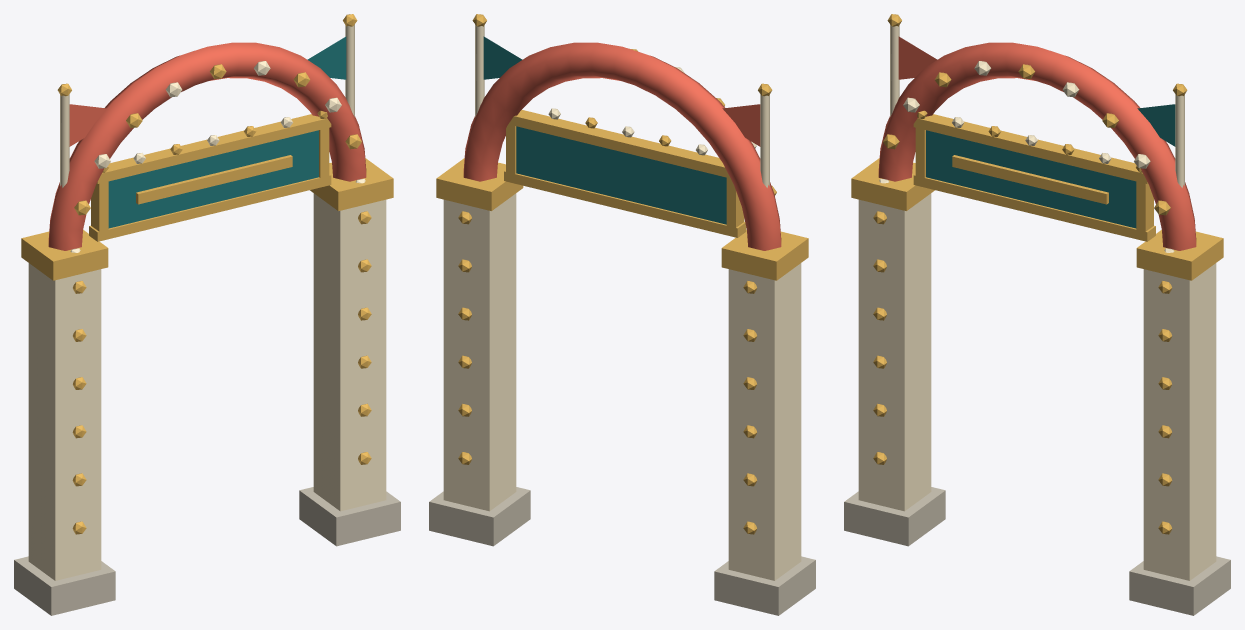
The model's file is deco_arch.glb.
3 views of the same model, side by side, from view 1: azimuth 30°, elevation 25°; view 2: azimuth 150°, elevation 25°; view 3: azimuth 330°, elevation 25° (orthographic).
Parts seen in each view (by area): view 1: deco_arch; view 2: deco_arch; view 3: deco_arch.
Part boxes in pixels (x1=…): deco_arch: x1=14, y1=14, x2=400, y2=615; deco_arch: x1=429, y1=14, x2=815, y2=615; deco_arch: x1=844, y1=14, x2=1230, y2=615.
Bounding box in the file's own units: 3.8 × 5.33 × 0.7.
